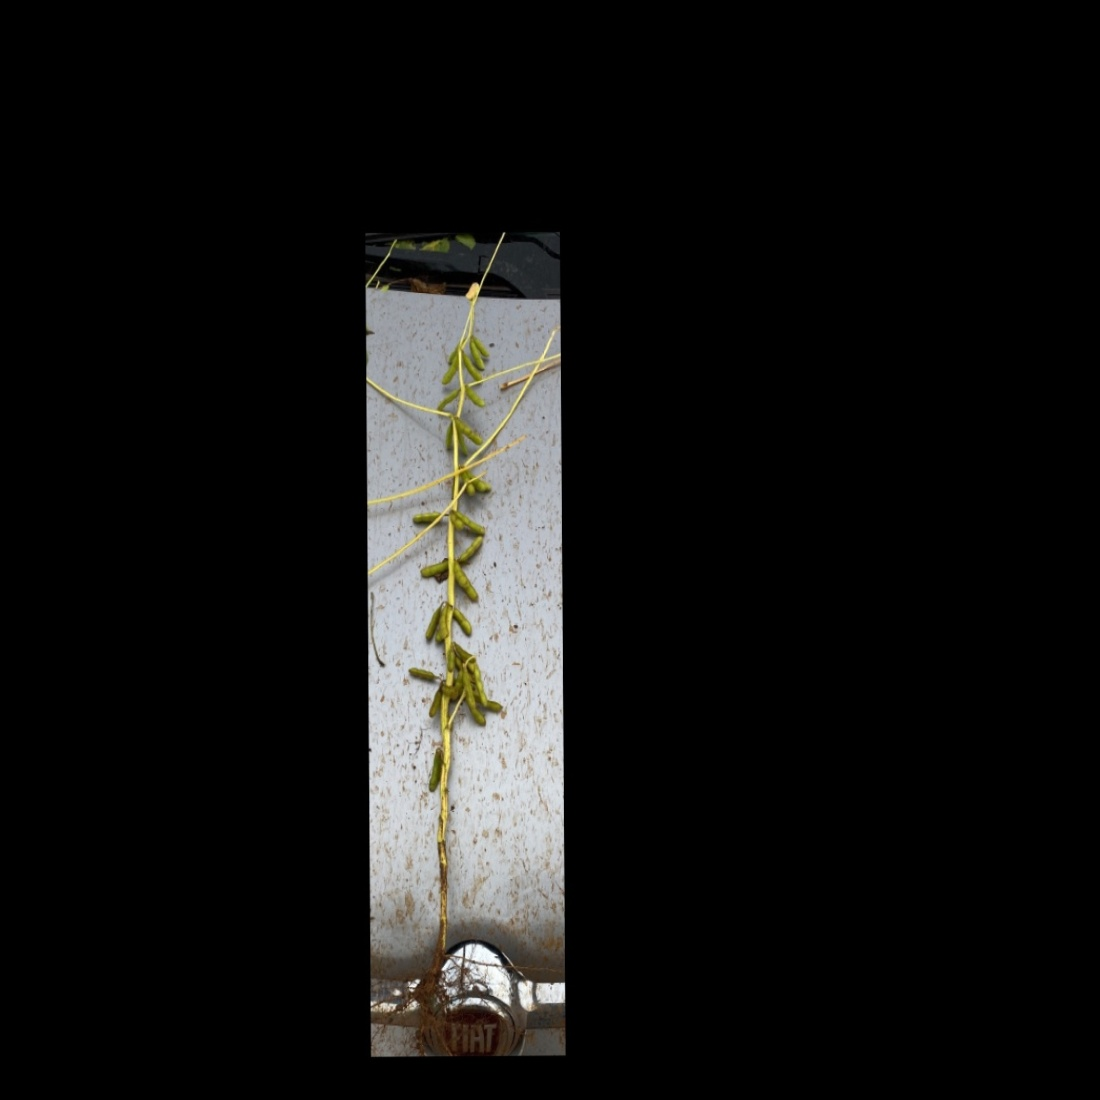pod: (435, 353, 461, 389), (452, 605, 476, 641), (454, 536, 485, 564), (425, 747, 443, 793), (414, 557, 448, 579), (463, 381, 486, 412), (434, 388, 462, 412), (405, 665, 438, 683), (410, 509, 447, 524), (427, 688, 440, 719), (444, 421, 454, 454)
soy: (386, 321, 515, 1026)
